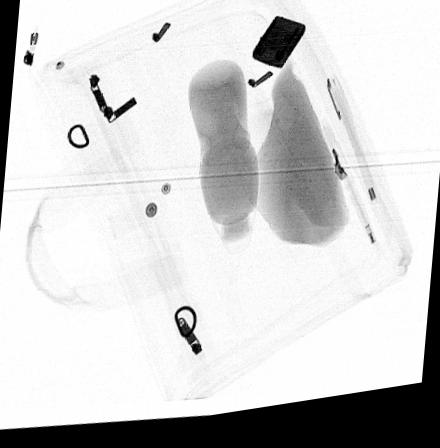Lighter: (251, 23, 305, 77)
